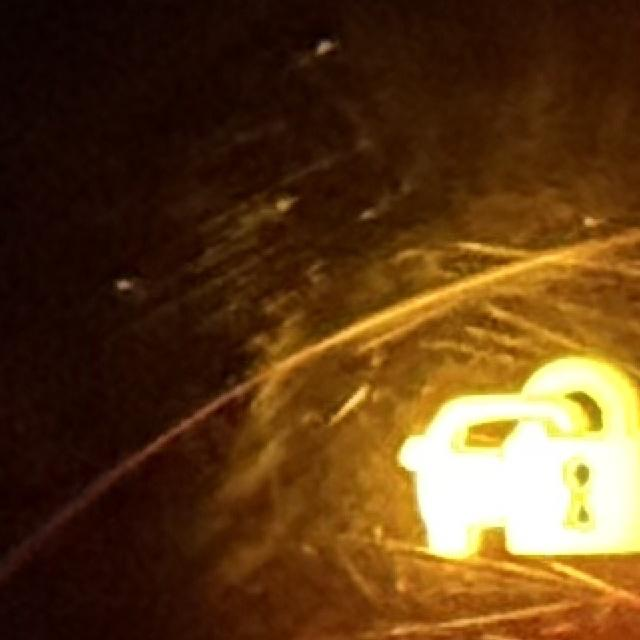Car SecurityWarning: (398, 353, 640, 562)
